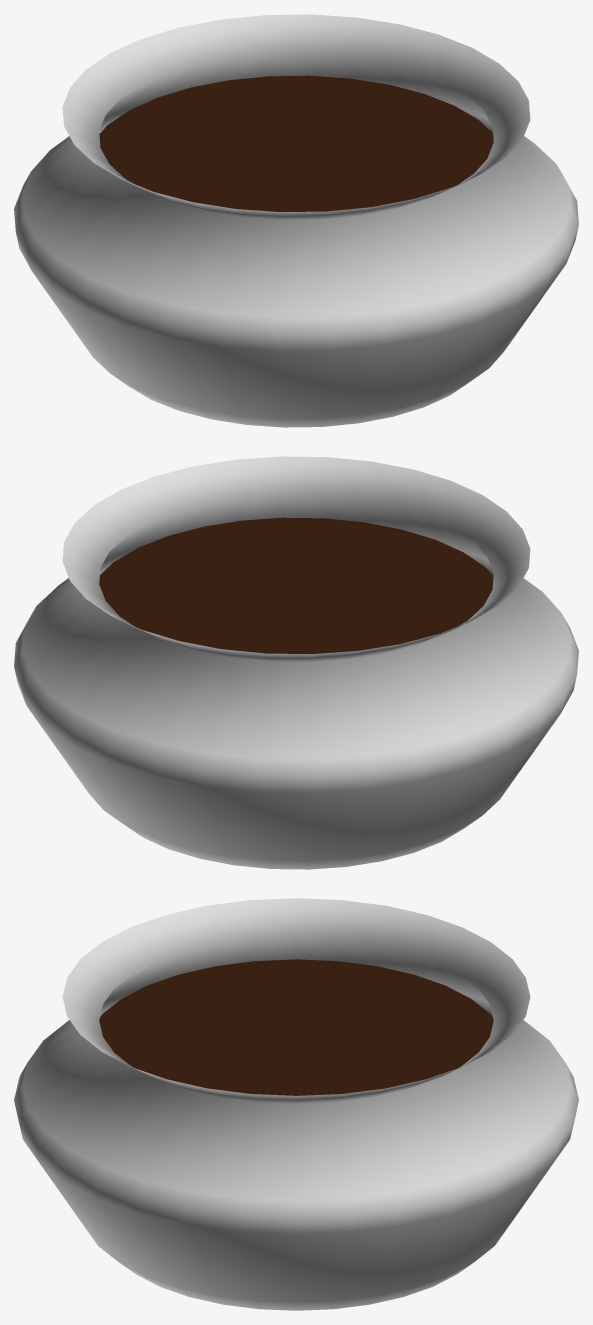
File: plant-growth.glb
3 renders of one model, top to bottom at view 1: azimuth 30°, elevation 25°; view 2: azimuth 150°, elevation 25°; view 3: azimuth 270°, elevation 25°, orthographic.
Parts seen in each view (by area): view 1: Circle, Circle.001; view 2: Circle, Circle.001; view 3: Circle, Circle.001.
Boxes of the visible parts, box(x1,y1,x2,y2) form: Circle: box(14, 14, 578, 427); Circle.001: box(99, 75, 493, 212); Circle: box(14, 456, 578, 869); Circle.001: box(99, 517, 493, 654); Circle: box(14, 898, 578, 1310); Circle.001: box(99, 959, 493, 1095).
Size of what is drawn, in the model's own units: 2.86 by 1.53 by 2.86.
